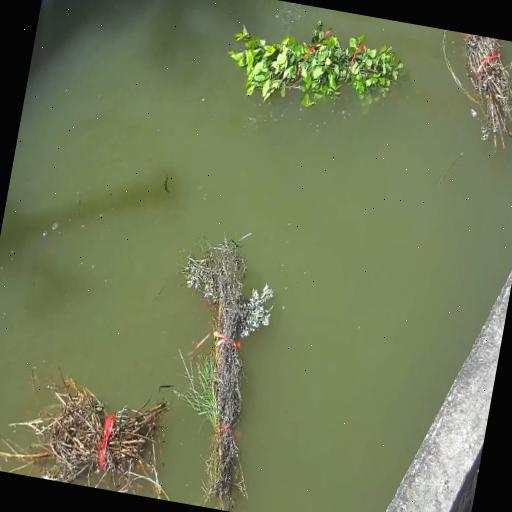twig: (173, 235, 273, 511), (21, 379, 168, 500), (229, 20, 403, 105), (442, 32, 512, 139)
